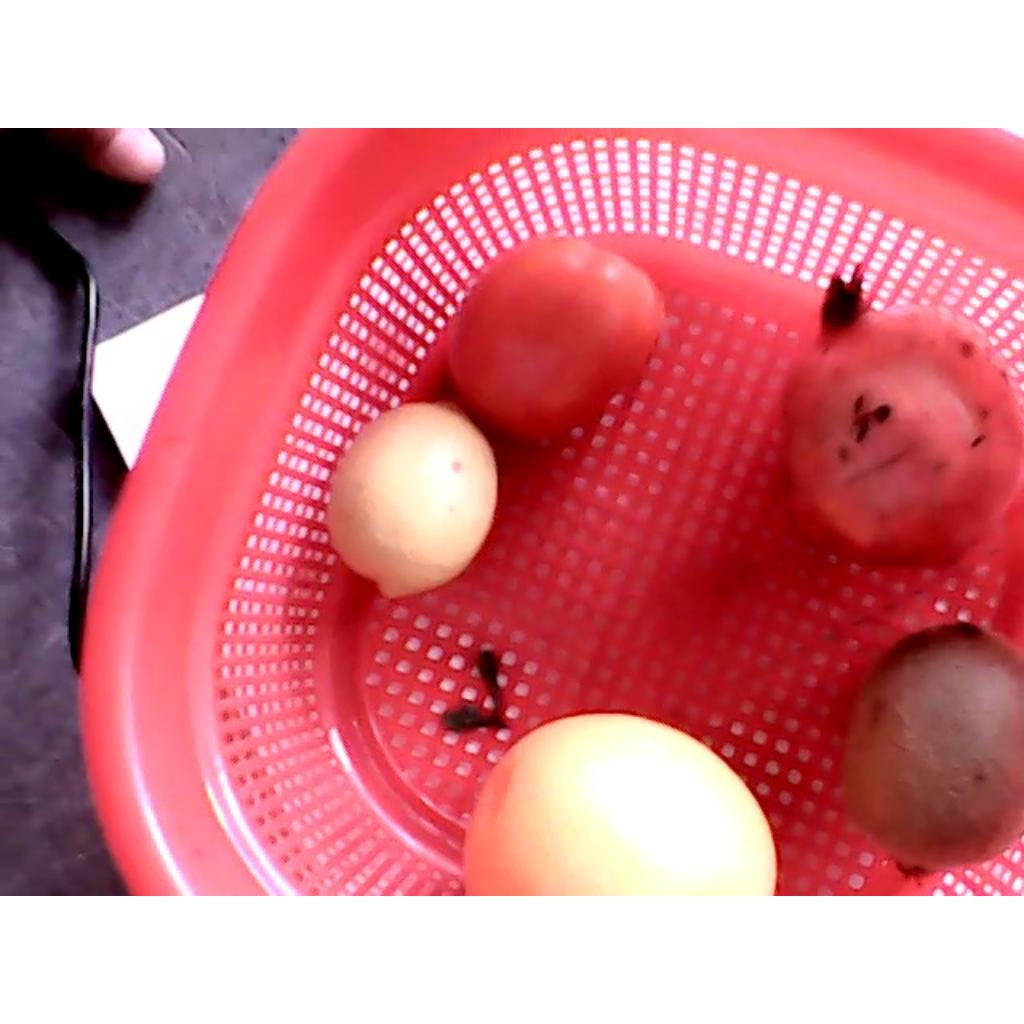kiwi: (838, 620, 1022, 886)
lemon: (323, 399, 498, 599)
orange: (462, 717, 778, 891)
pomegranate: (767, 268, 1022, 570)
tomato: (451, 235, 665, 451)
